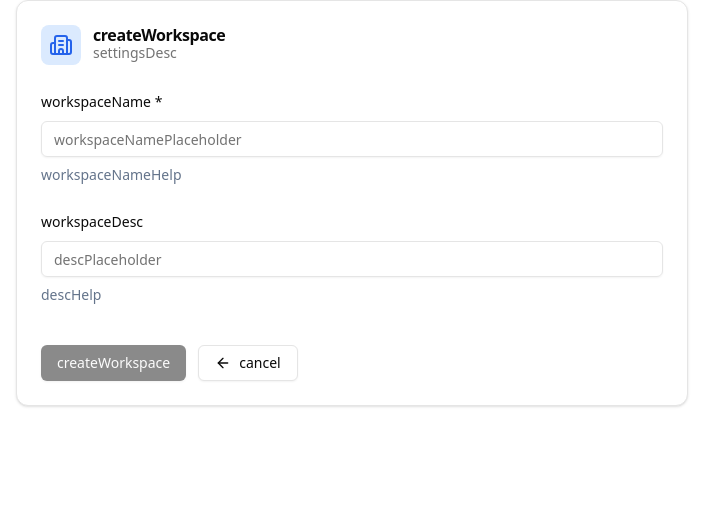
Test: WorkspaceCreateForm — workspace cap (#1644) › does not render another quota as the workspace cap
The image size is (705, 506).
Type "Acme" into the field labelled "workspaceName *" at (352, 139), box x1=41 y1=121 x2=663 y2=157
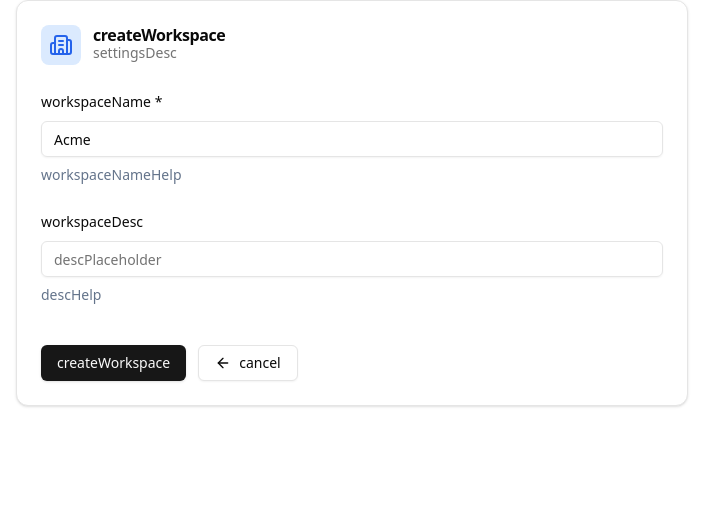
Submit the form labelled "workspaceName", box x1=41 y1=89 x2=663 y2=381
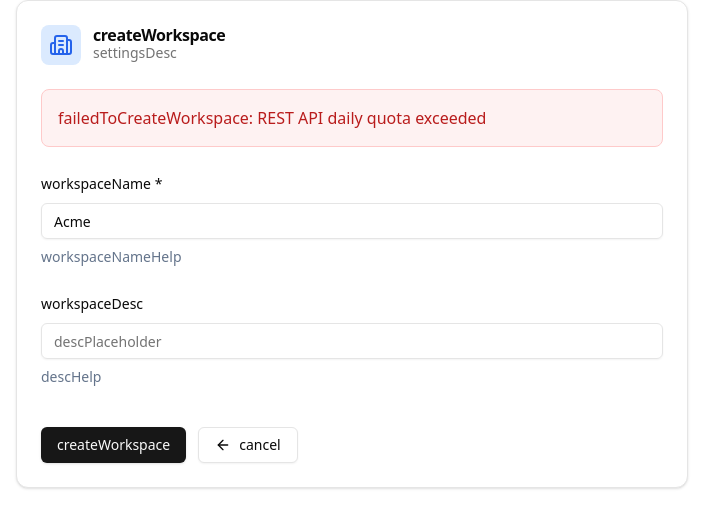
Expected: the text "failedToCreateWorkspace: REST API daily quota exceeded" is shown, x1=41 y1=89 x2=663 y2=147
